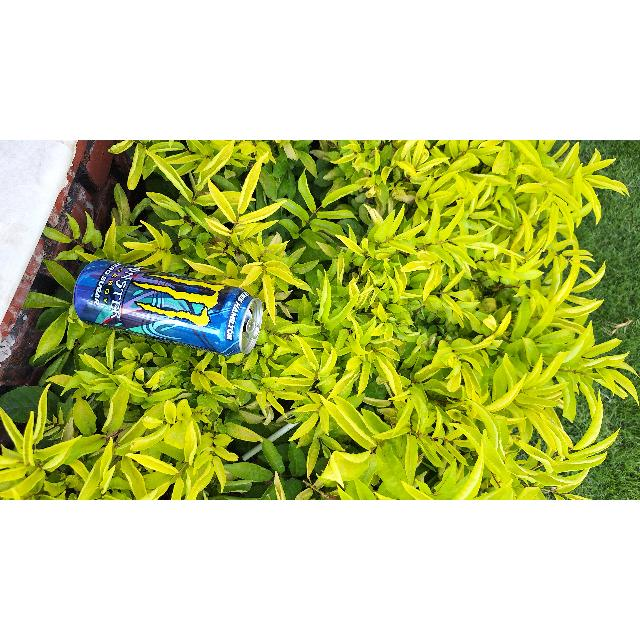Monster LH44: (74, 255, 262, 355)
